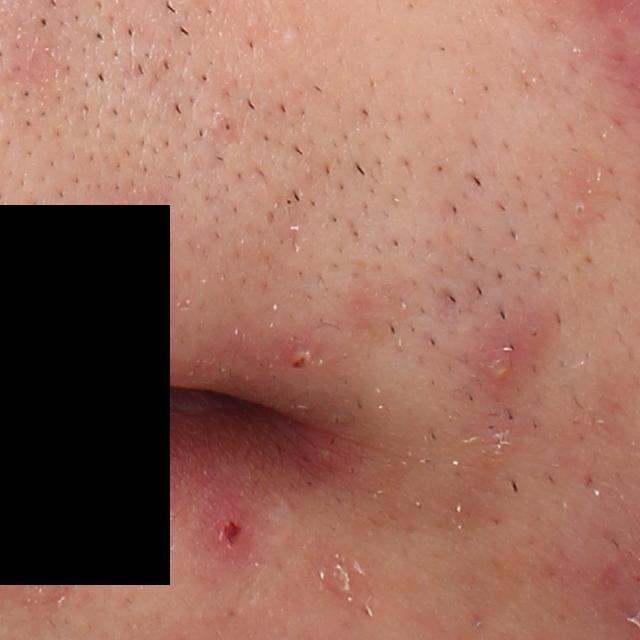papule: (201, 498, 255, 562), (275, 335, 334, 378)
pustule: (477, 332, 527, 387)
